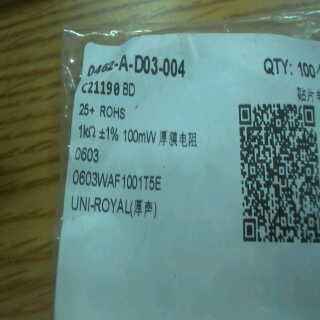1kR: (75, 120, 100, 141)
